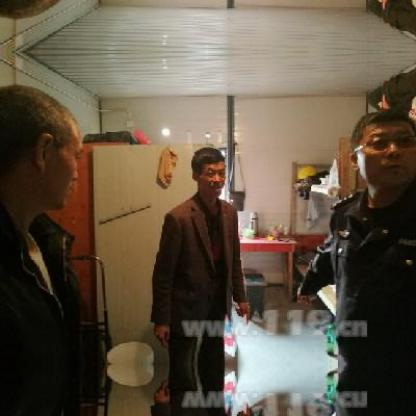No Safety Helmet: (1, 83, 83, 236), (347, 108, 416, 200), (189, 145, 228, 203)
